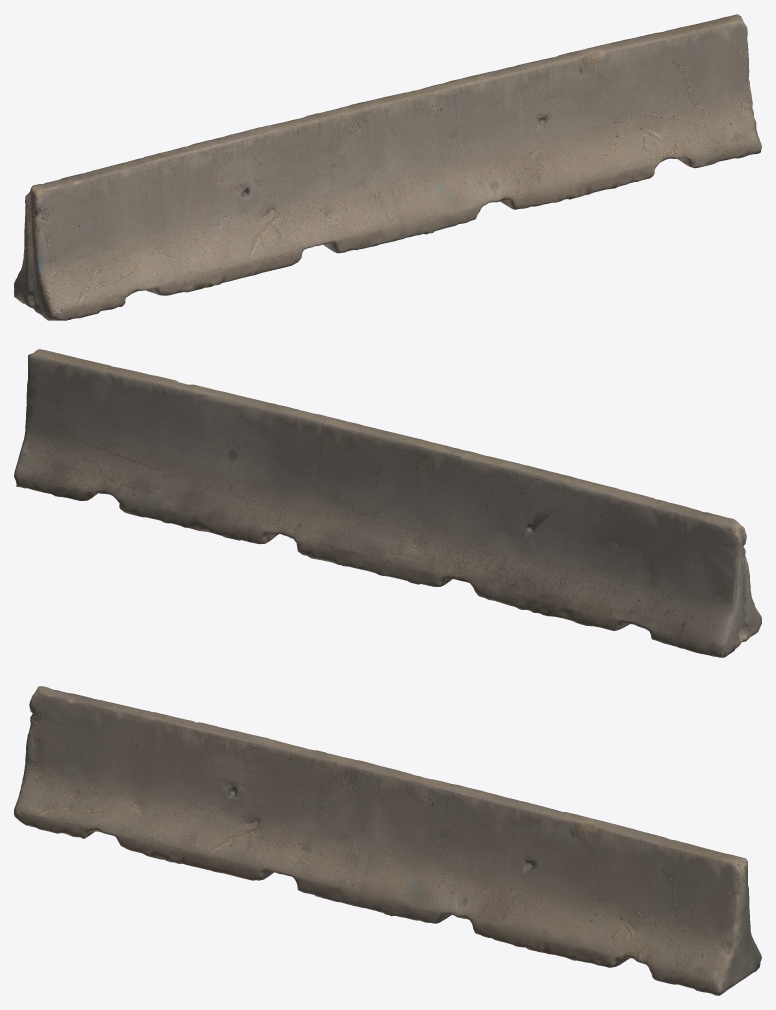
3 renders of one model, top to bottom at view 1: azimuth 30°, elevation 25°; view 2: azimuth 150°, elevation 25°; view 3: azimuth 330°, elevation 25°, orthographic.
Parts seen in each view (by area): view 1: ubitfhtfa_LOD0_TIER2_000; view 2: ubitfhtfa_LOD0_TIER2_000; view 3: ubitfhtfa_LOD0_TIER2_000.
Boxes of the visible parts, box(x1,y1,x2,y2) form: ubitfhtfa_LOD0_TIER2_000: box(14, 14, 761, 320); ubitfhtfa_LOD0_TIER2_000: box(14, 349, 761, 657); ubitfhtfa_LOD0_TIER2_000: box(14, 686, 761, 995).
Size of the model in its own units: 5.39 by 0.9012 by 0.5503.
Materials: 1 (1 with a texture image).
